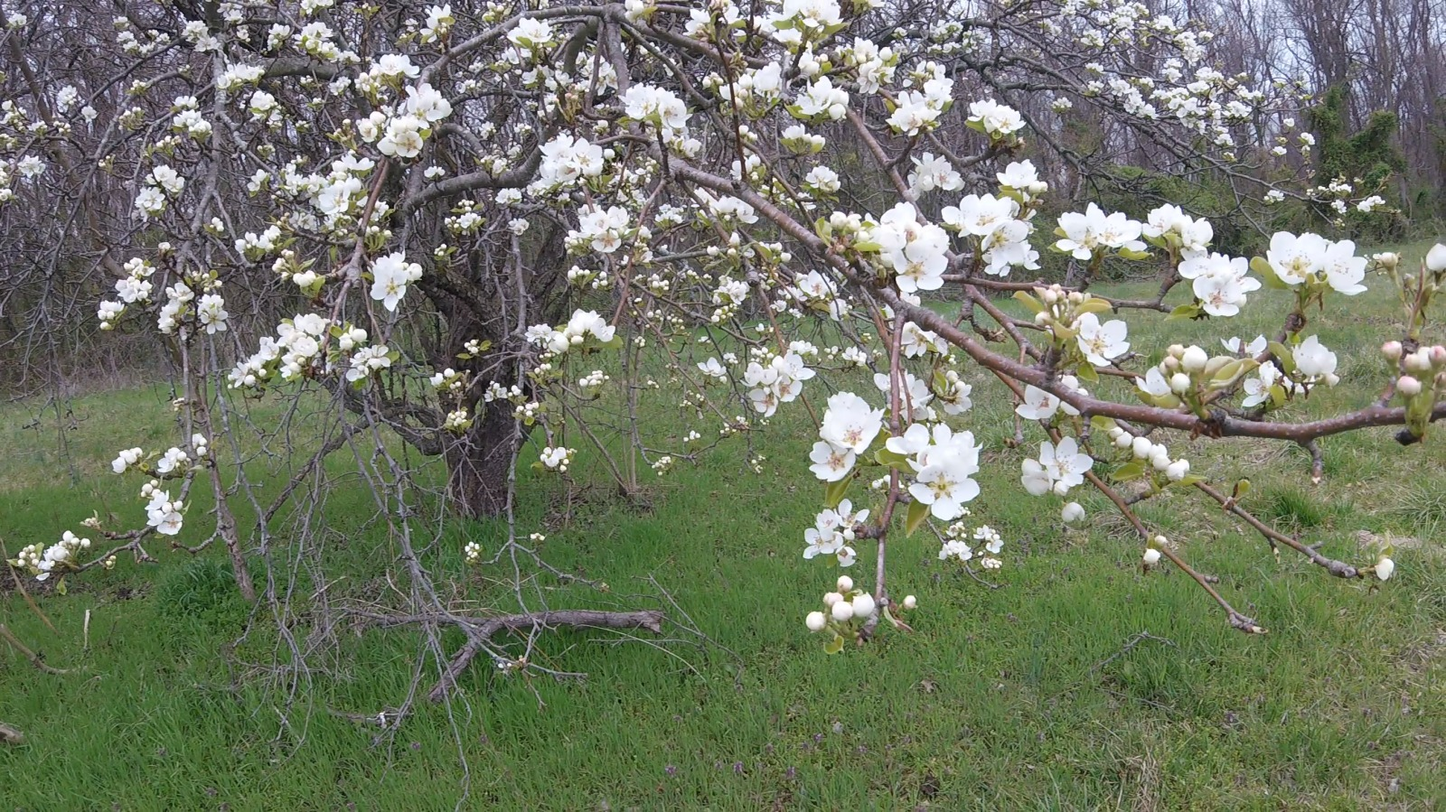flower: (1056, 202, 1262, 317), (831, 202, 951, 308), (886, 421, 983, 521), (793, 37, 897, 121), (942, 193, 1042, 277), (229, 313, 332, 388), (279, 150, 375, 230), (356, 84, 454, 158), (810, 392, 887, 482), (1267, 232, 1368, 296), (180, 13, 265, 89), (618, 83, 701, 157), (740, 341, 818, 418), (886, 57, 955, 136), (527, 133, 605, 201), (565, 204, 653, 263), (803, 499, 870, 567), (1022, 436, 1094, 496), (525, 309, 616, 355), (754, 0, 844, 46), (368, 247, 423, 312), (1072, 313, 1131, 367), (904, 152, 966, 201), (292, 22, 363, 64), (1291, 335, 1340, 389), (823, 575, 876, 624), (354, 54, 421, 92), (1133, 437, 1190, 481), (968, 98, 1027, 139), (694, 188, 759, 224), (33, 531, 90, 572), (141, 481, 183, 536), (1016, 385, 1081, 420), (155, 281, 195, 335), (235, 225, 283, 268), (733, 62, 783, 102), (346, 345, 400, 382), (116, 258, 156, 305), (1242, 361, 1282, 408), (1136, 367, 1191, 400), (902, 322, 949, 359), (905, 369, 937, 422), (521, 65, 574, 96), (997, 160, 1048, 192), (714, 267, 751, 310), (132, 186, 168, 230), (507, 17, 554, 49), (940, 370, 972, 416), (198, 294, 232, 335), (153, 165, 187, 201), (420, 5, 452, 43), (100, 448, 143, 475), (782, 125, 826, 151), (795, 270, 831, 300), (1404, 346, 1446, 370), (173, 109, 212, 134), (16, 155, 48, 185), (596, 56, 619, 96), (572, 54, 596, 92), (806, 166, 841, 192), (973, 525, 1004, 554), (157, 448, 191, 473), (293, 271, 326, 296), (339, 325, 369, 351), (937, 540, 972, 562), (683, 9, 711, 36), (217, 0, 247, 24), (117, 32, 153, 52), (540, 448, 577, 467), (722, 0, 751, 24), (241, 170, 274, 191), (655, 203, 688, 224), (1180, 346, 1211, 368), (250, 90, 278, 111), (300, 0, 334, 17), (1016, 312, 1052, 328), (624, 0, 649, 23), (695, 306, 728, 323), (764, 242, 792, 262), (1244, 335, 1267, 359), (698, 358, 727, 377), (568, 266, 600, 283), (98, 301, 125, 321), (841, 347, 868, 367), (898, 370, 908, 424), (1034, 285, 1066, 301), (623, 166, 653, 183), (1427, 244, 1446, 270), (1397, 375, 1423, 394), (81, 106, 99, 133), (631, 188, 654, 209), (495, 47, 520, 66), (1376, 555, 1394, 581), (56, 86, 78, 107), (1063, 502, 1086, 522), (328, 77, 352, 96), (456, 212, 482, 229), (579, 370, 605, 387), (371, 200, 390, 223), (826, 298, 844, 322), (495, 189, 522, 204), (822, 274, 840, 296), (507, 219, 530, 236), (744, 152, 761, 174), (648, 274, 670, 291), (786, 285, 808, 302), (806, 612, 826, 630), (475, 122, 496, 139), (1062, 375, 1081, 393), (874, 374, 891, 394), (192, 434, 207, 456), (493, 158, 510, 177), (1221, 337, 1241, 353), (269, 23, 290, 38), (1382, 341, 1403, 356), (836, 299, 853, 317), (491, 381, 508, 399), (1144, 548, 1161, 565), (739, 126, 758, 140), (173, 96, 197, 107), (729, 161, 742, 181), (425, 166, 446, 178), (430, 373, 446, 387), (770, 300, 787, 313), (707, 247, 727, 258), (524, 403, 539, 417), (719, 84, 731, 101), (728, 232, 741, 247), (110, 16, 128, 26), (144, 173, 157, 185), (724, 353, 738, 364), (593, 279, 608, 289), (357, 197, 369, 207), (36, 573, 51, 581), (903, 79, 914, 88), (605, 150, 615, 159), (445, 369, 455, 378), (512, 386, 521, 396), (540, 364, 552, 370), (600, 272, 607, 279), (535, 368, 542, 375), (232, 173, 240, 176)
